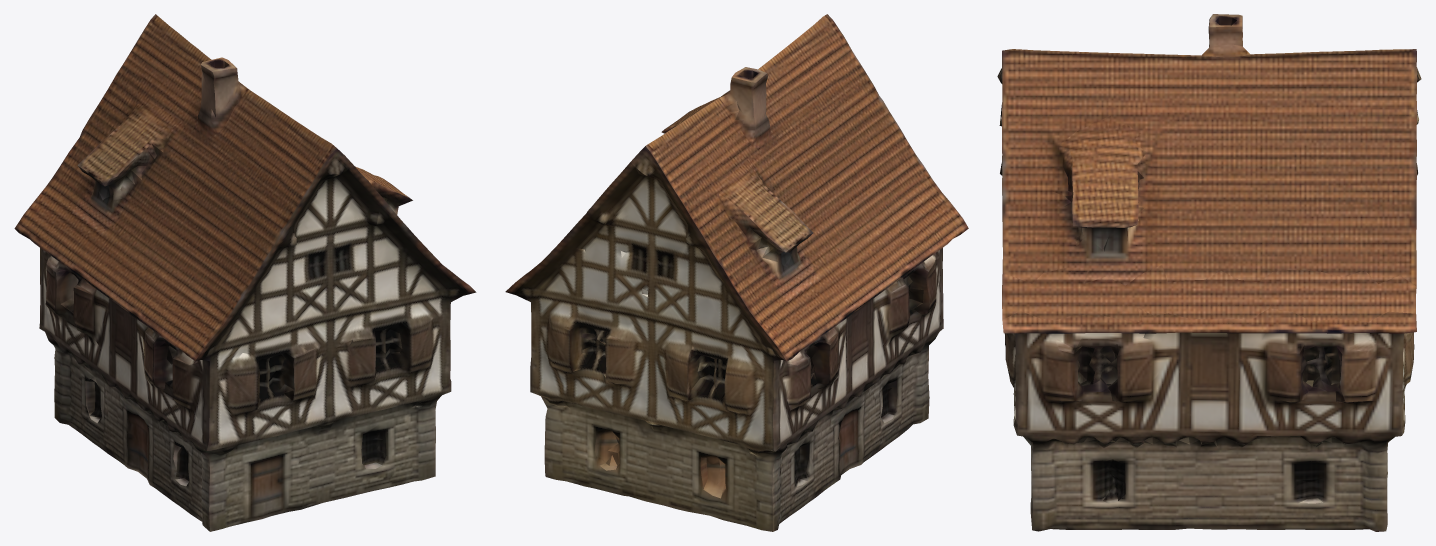
File: merchant_house.glb
3 views of the same model, side by side, from view 1: azimuth 30°, elevation 25°; view 2: azimuth 150°, elevation 25°; view 3: azimuth 270°, elevation 25° (orthographic). The views are drawn at different scales.
Visible parts, largest first — view 1: MedievalHouse; view 2: MedievalHouse; view 3: MedievalHouse.
Part boxes in pixels (x1,y1,x2,y2): MedievalHouse: (14, 14, 476, 531); MedievalHouse: (505, 14, 968, 531); MedievalHouse: (997, 14, 1421, 531).
Size of the model in its own units: 7.14 by 9.5 by 8.15.
1 material, 1 textured.
